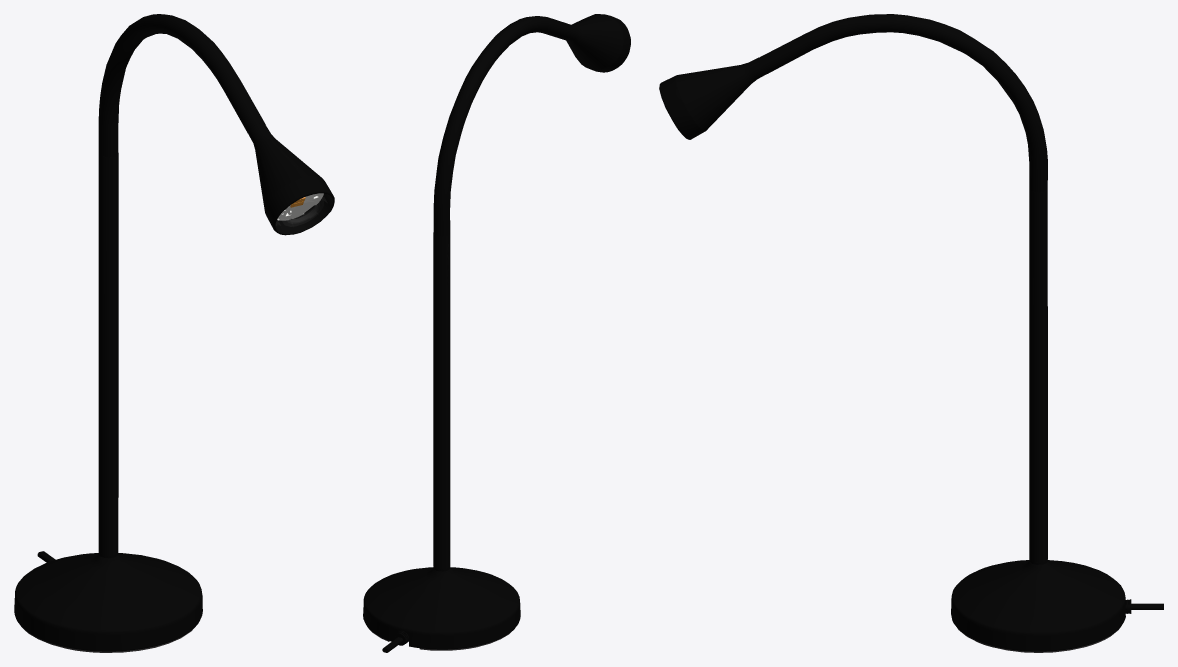
3 renders of one model, left to right at view 1: azimuth 30°, elevation 25°; view 2: azimuth 150°, elevation 25°; view 3: azimuth 270°, elevation 25°, orthographic. The views are drawn at different scales.
Visible parts, largest first — view 1: 1, 2; view 2: 1; view 3: 1.
Boxes of the visible parts, x1=… form: 1: x1=14, y1=14, x2=334, y2=652; 2: x1=277, y1=193, x2=323, y2=223; 1: x1=363, y1=14, x2=630, y2=652; 1: x1=659, y1=14, x2=1163, y2=652.
Size of the model in its own units: 0.1198 by 0.4549 by 0.3458.
2 materials, 2 textured.
